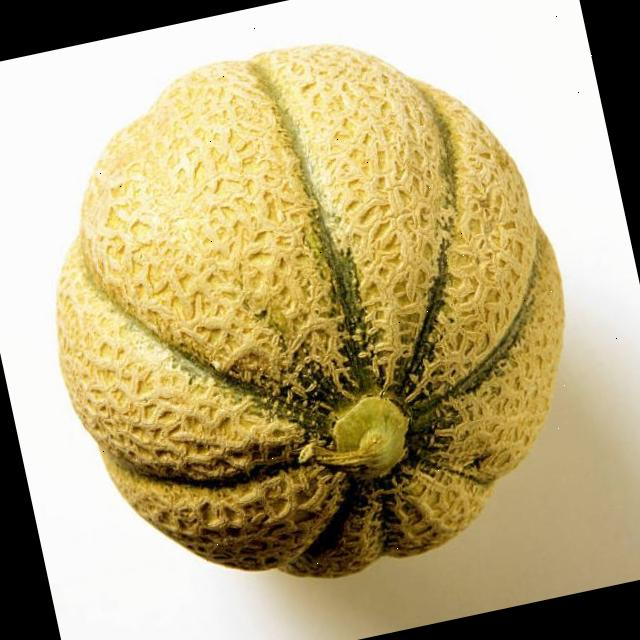Hami Melon: (7, 2, 610, 626)
